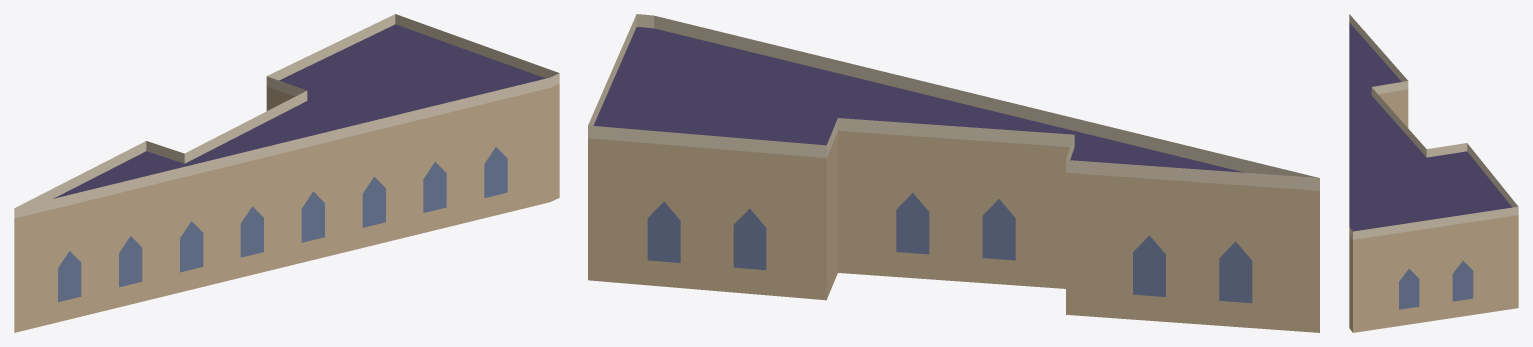
The model's file is b-130-day.glb.
The picture shows the model from 3 angles, left to right: view 1: azimuth 30°, elevation 25°; view 2: azimuth 150°, elevation 25°; view 3: azimuth 270°, elevation 25°; orthographic projection. The views are drawn at different scales.
Visible parts, largest first — view 1: campus/b-130-day-0; view 2: campus/b-130-day-0; view 3: campus/b-130-day-0.
Boxes of the visible parts, <box> form: campus/b-130-day-0: <box>14,14,559,332</box>; campus/b-130-day-0: <box>588,14,1319,332</box>; campus/b-130-day-0: <box>1349,14,1518,332</box>.
Bounding box in the file's own units: 30.57 × 6.65 × 10.1.
